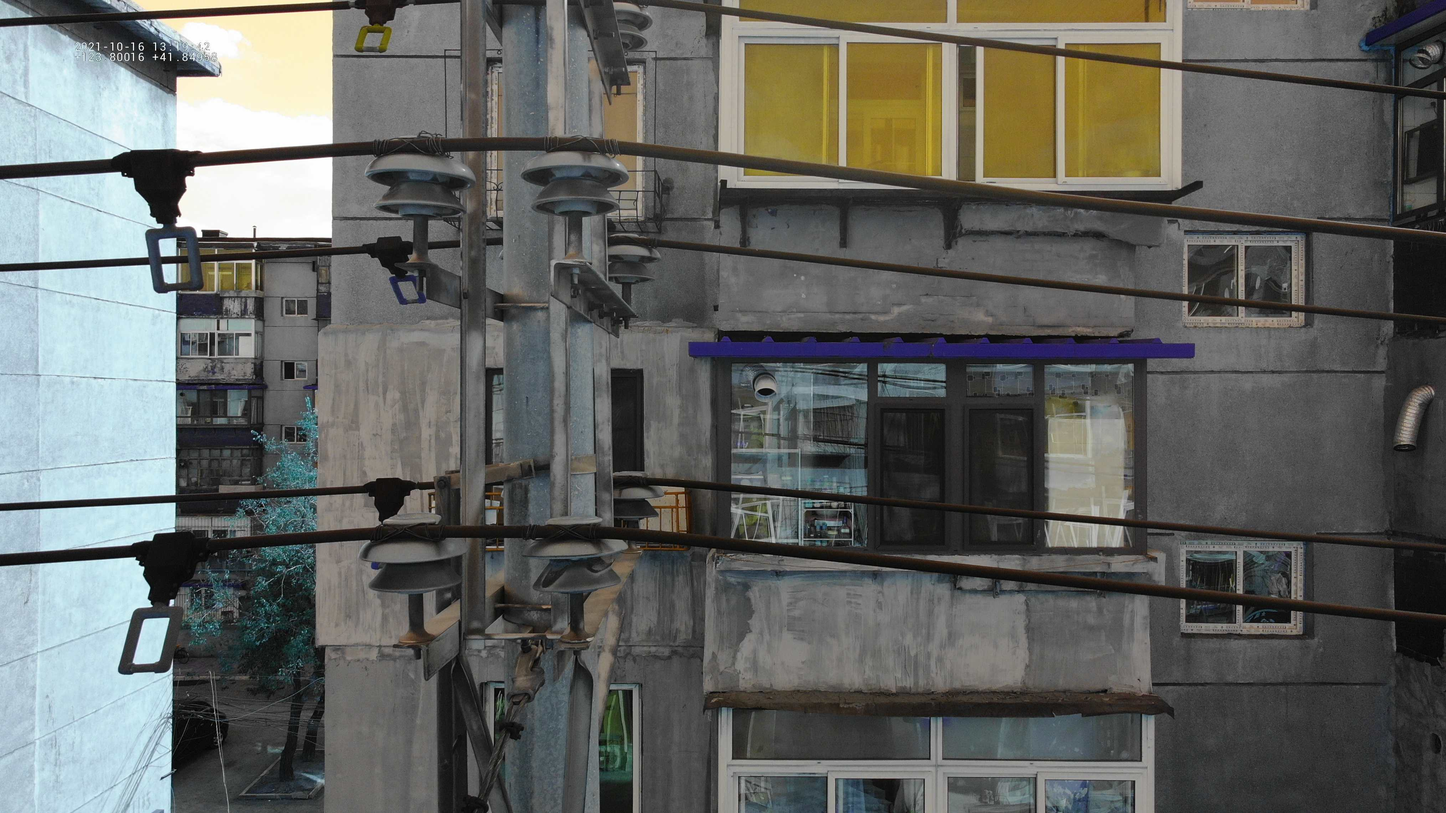severe_soiling_no_discharge_whole: (355, 507, 477, 598), (361, 131, 480, 223), (518, 133, 632, 221), (517, 513, 634, 596), (605, 229, 665, 287), (611, 467, 667, 524), (612, 2, 654, 53)
